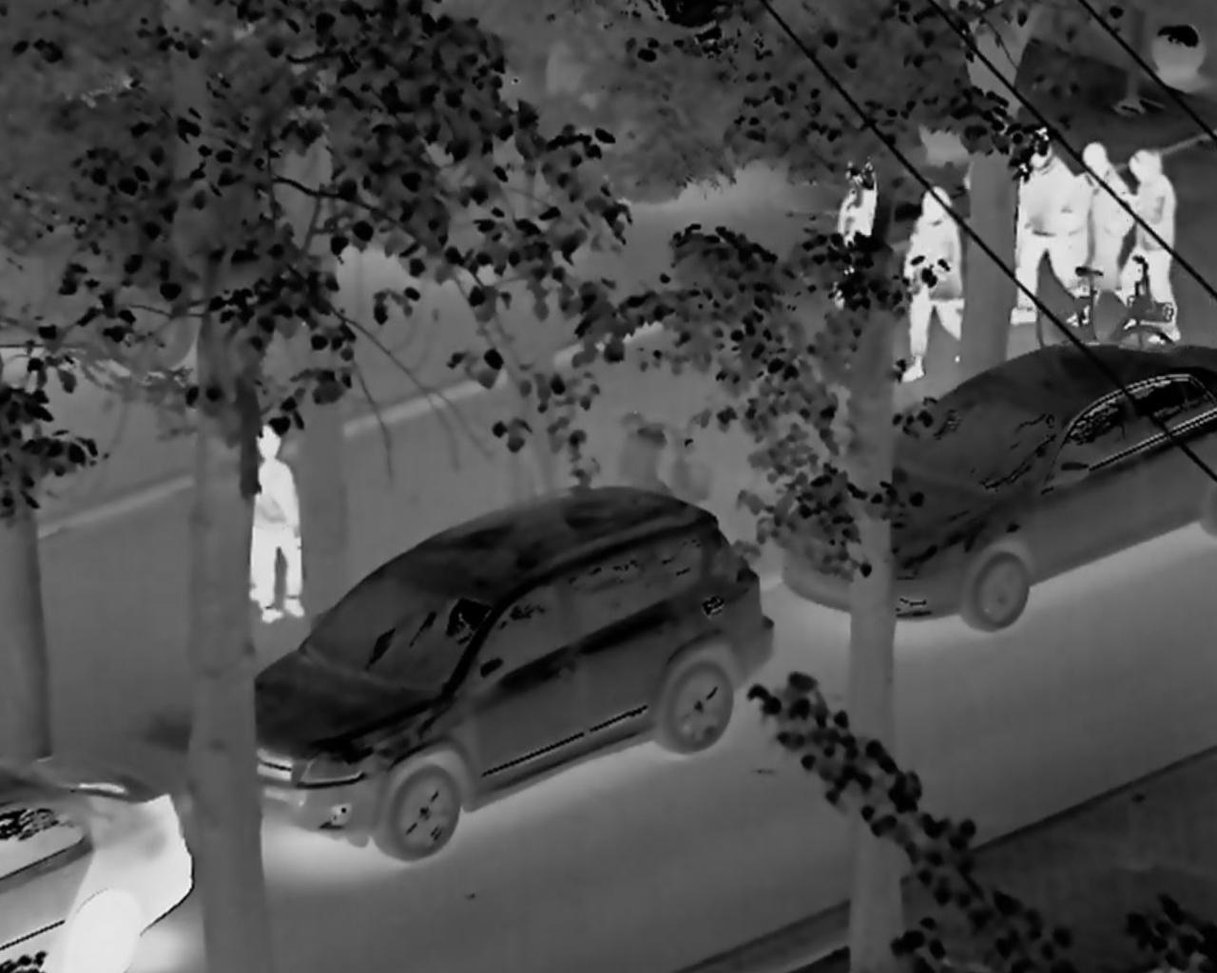person: (234, 399, 318, 623), (897, 180, 976, 382), (1064, 97, 1131, 334), (1126, 123, 1191, 354), (998, 121, 1066, 333), (815, 148, 882, 303)
